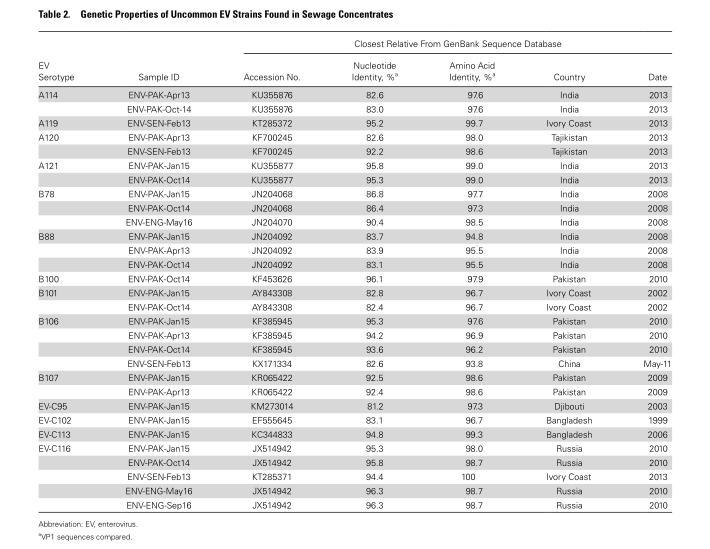table: (37, 37, 670, 509)
table column: (99, 37, 217, 509), (217, 37, 325, 509), (325, 37, 422, 509), (422, 37, 519, 509), (519, 37, 616, 509), (37, 37, 99, 509), (616, 37, 670, 509)
table column header: (37, 37, 670, 85)
table row: (37, 53, 670, 85), (37, 37, 670, 53), (37, 85, 670, 101), (37, 171, 670, 186), (37, 270, 670, 285), (37, 369, 670, 384), (37, 468, 670, 483), (37, 101, 670, 115), (37, 115, 670, 129), (37, 129, 670, 143), (37, 143, 670, 157), (37, 157, 670, 171), (37, 186, 670, 200), (37, 200, 670, 214), (37, 214, 670, 228), (37, 228, 670, 242), (37, 242, 670, 256), (37, 256, 670, 270), (37, 285, 670, 299), (37, 299, 670, 313), (37, 313, 670, 327), (37, 327, 670, 341), (37, 341, 670, 355), (37, 355, 670, 369), (37, 384, 670, 398), (37, 398, 670, 412), (37, 412, 670, 426), (37, 426, 670, 440), (37, 440, 670, 454), (37, 454, 670, 468), (37, 483, 670, 497), (37, 497, 670, 509)
table spanning cell: (217, 37, 670, 53), (99, 37, 217, 85), (37, 440, 99, 509), (37, 313, 99, 369), (37, 37, 99, 85), (37, 186, 99, 228), (37, 228, 99, 270), (37, 85, 99, 115), (37, 157, 99, 186), (37, 369, 99, 398), (37, 129, 99, 157), (37, 285, 99, 313)
